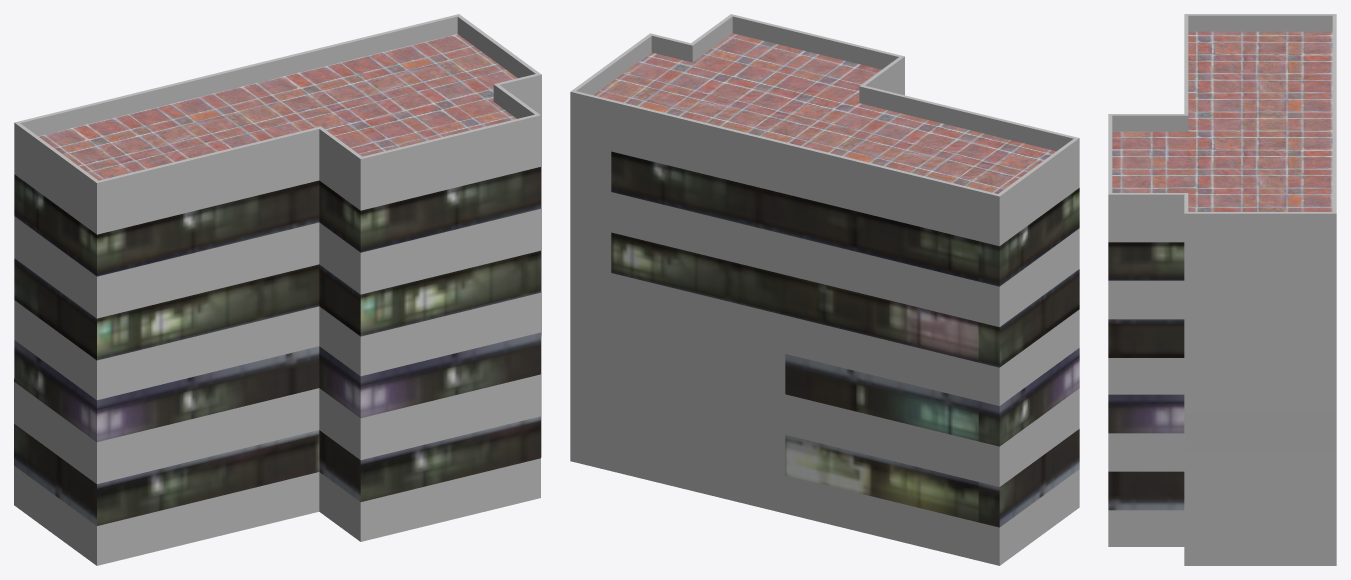
The model's file is hirise_parts07_4f.fbx.
3 views of the same model, side by side, from view 1: azimuth 30°, elevation 25°; view 2: azimuth 150°, elevation 25°; view 3: azimuth 270°, elevation 25° (orthographic). The views are drawn at different scales.
Parts seen in each view (by area): view 1: hirise_parts07_4f; view 2: hirise_parts07_4f; view 3: hirise_parts07_4f.
Boxes of the visible parts, x1,y1,x2,y2 form: hirise_parts07_4f: (14, 14, 541, 565); hirise_parts07_4f: (570, 14, 1079, 565); hirise_parts07_4f: (1108, 14, 1336, 565).
Size of the model in its own units: 17.68 by 14.53 by 8.55.
